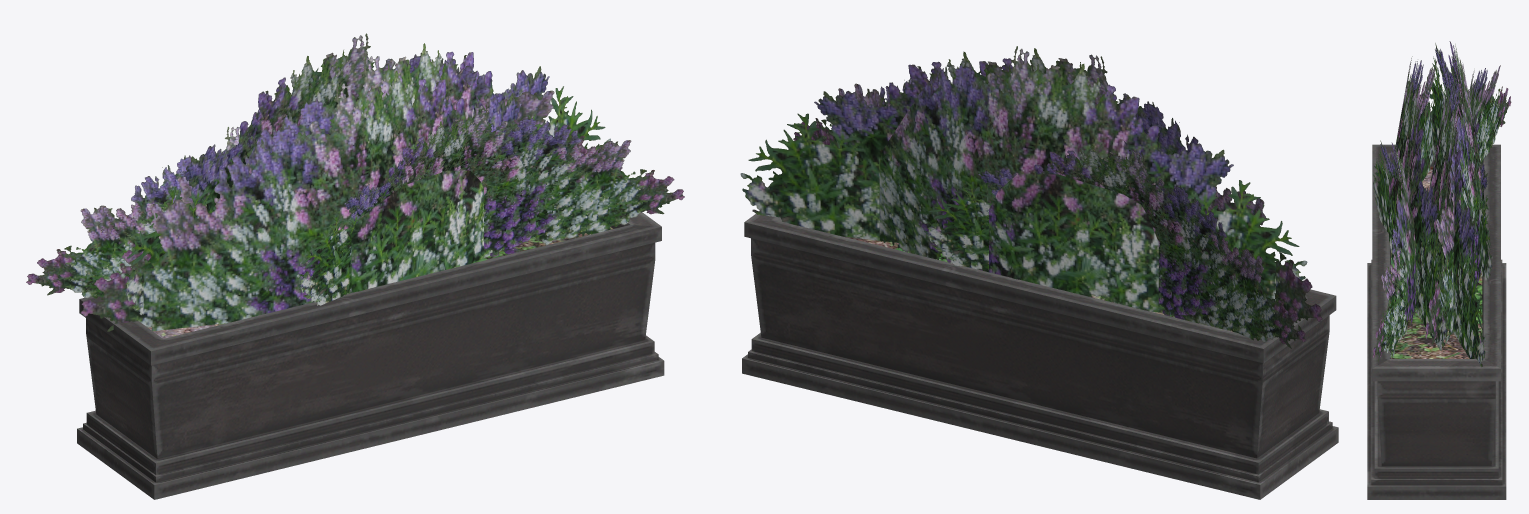
The model's file is Balcony_Pot_02.fbx.
3 views of the same model, side by side, from view 1: azimuth 30°, elevation 25°; view 2: azimuth 150°, elevation 25°; view 3: azimuth 270°, elevation 25° (orthographic). The views are drawn at different scales.
Parts seen in each view (by area): view 1: Balcony_Pot_02_LOD0; view 2: Balcony_Pot_02_LOD0; view 3: Balcony_Pot_02_LOD0.
Part boxes in pixels (bbox=[...]): Balcony_Pot_02_LOD0: bbox=[26, 33, 684, 499]; Balcony_Pot_02_LOD0: bbox=[740, 46, 1338, 499]; Balcony_Pot_02_LOD0: bbox=[1367, 41, 1511, 499].
Size of what is drawn, in the model's own units: 101 by 59.22 by 23.93.
